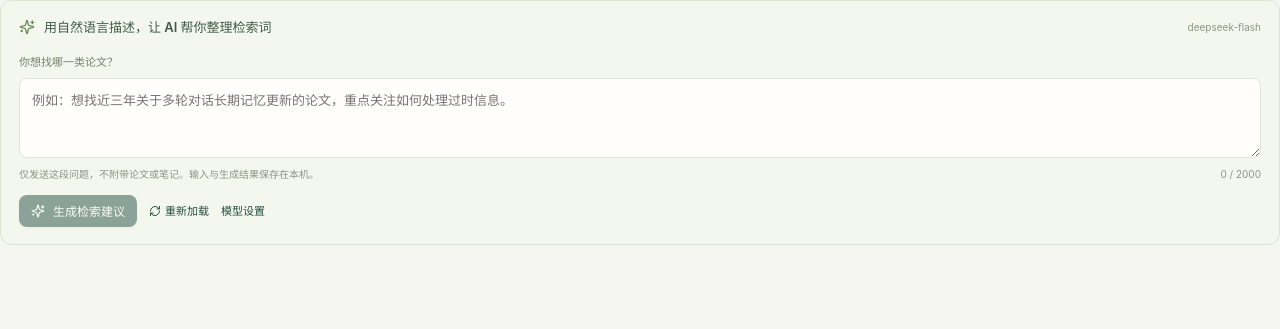
预算不足的明确失败不提供可能重复扣费的安全重试入口
Expected: the text "deepseek-flash" is shown, [1188,19,1261,35]
Step 1. Type "研究问题" into the text box named "ACL Anthology 研究问题" → (640, 118), box [19,78,1261,158]
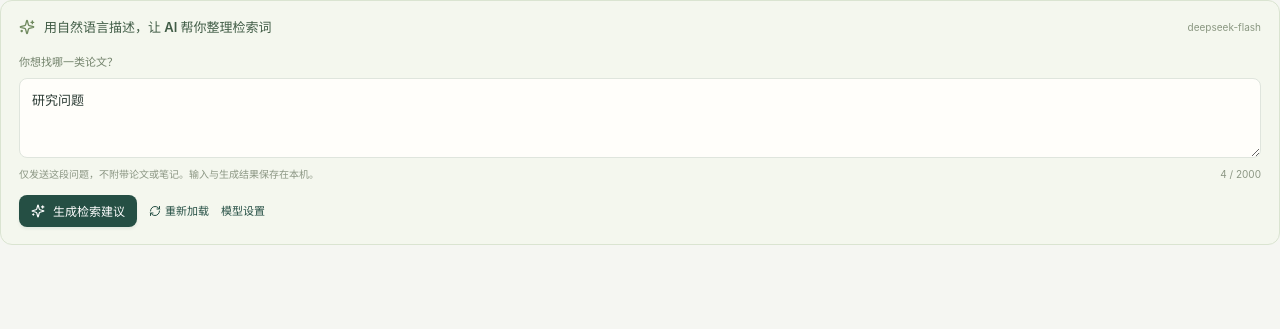
Step 2. Click the button "生成检索建议" → (78, 211), box [19,195,137,227]
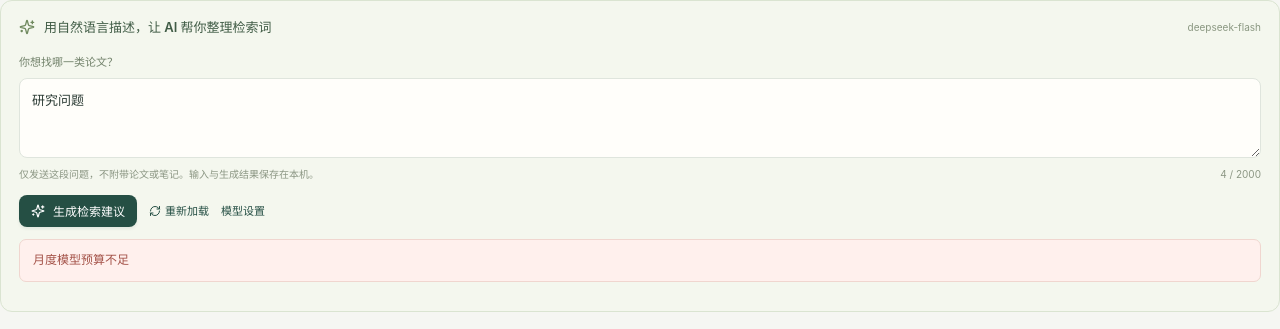
Now the message "月度模型预算不足" is shown, box [19,239,1261,282]
